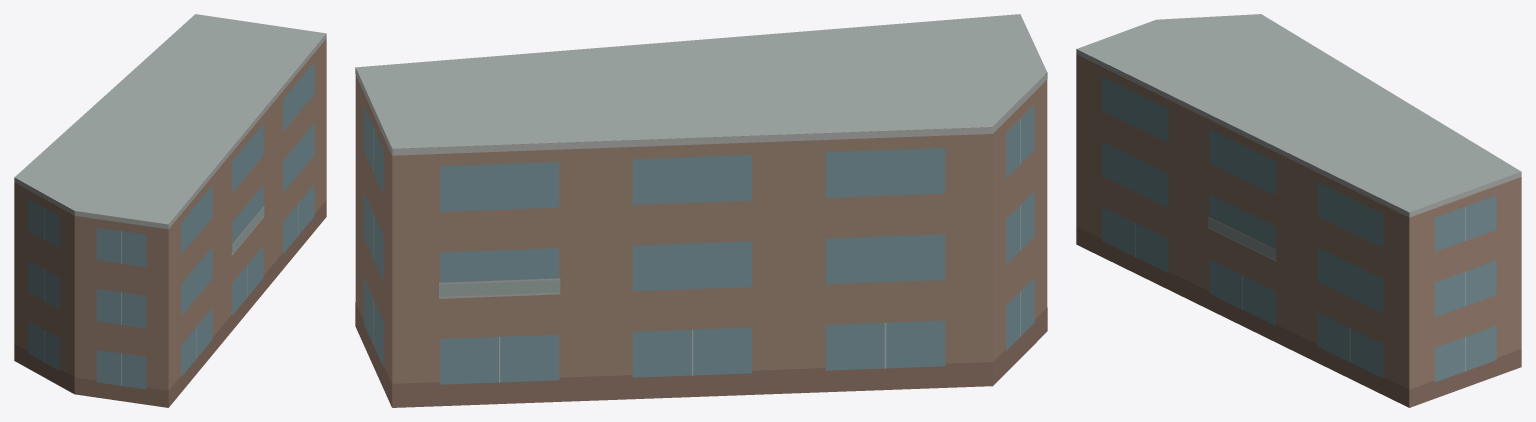
The model's file is survey-upis-33041492.glb.
3 views of the same model, side by side, from view 1: azimuth 30°, elevation 25°; view 2: azimuth 150°, elevation 25°; view 3: azimuth 270°, elevation 25° (orthographic). The views are drawn at different scales.
Parts seen in each view (by area): view 1: survey-upis-33041492.tmp; view 2: survey-upis-33041492.tmp; view 3: survey-upis-33041492.tmp.
Part boxes in pixels (x1,y1,x2,y2): survey-upis-33041492.tmp: (14,14,326,407); survey-upis-33041492.tmp: (355,14,1047,407); survey-upis-33041492.tmp: (1076,14,1521,407).
Bounding box in the file's own units: 19.94 × 9.15 × 18.9.
